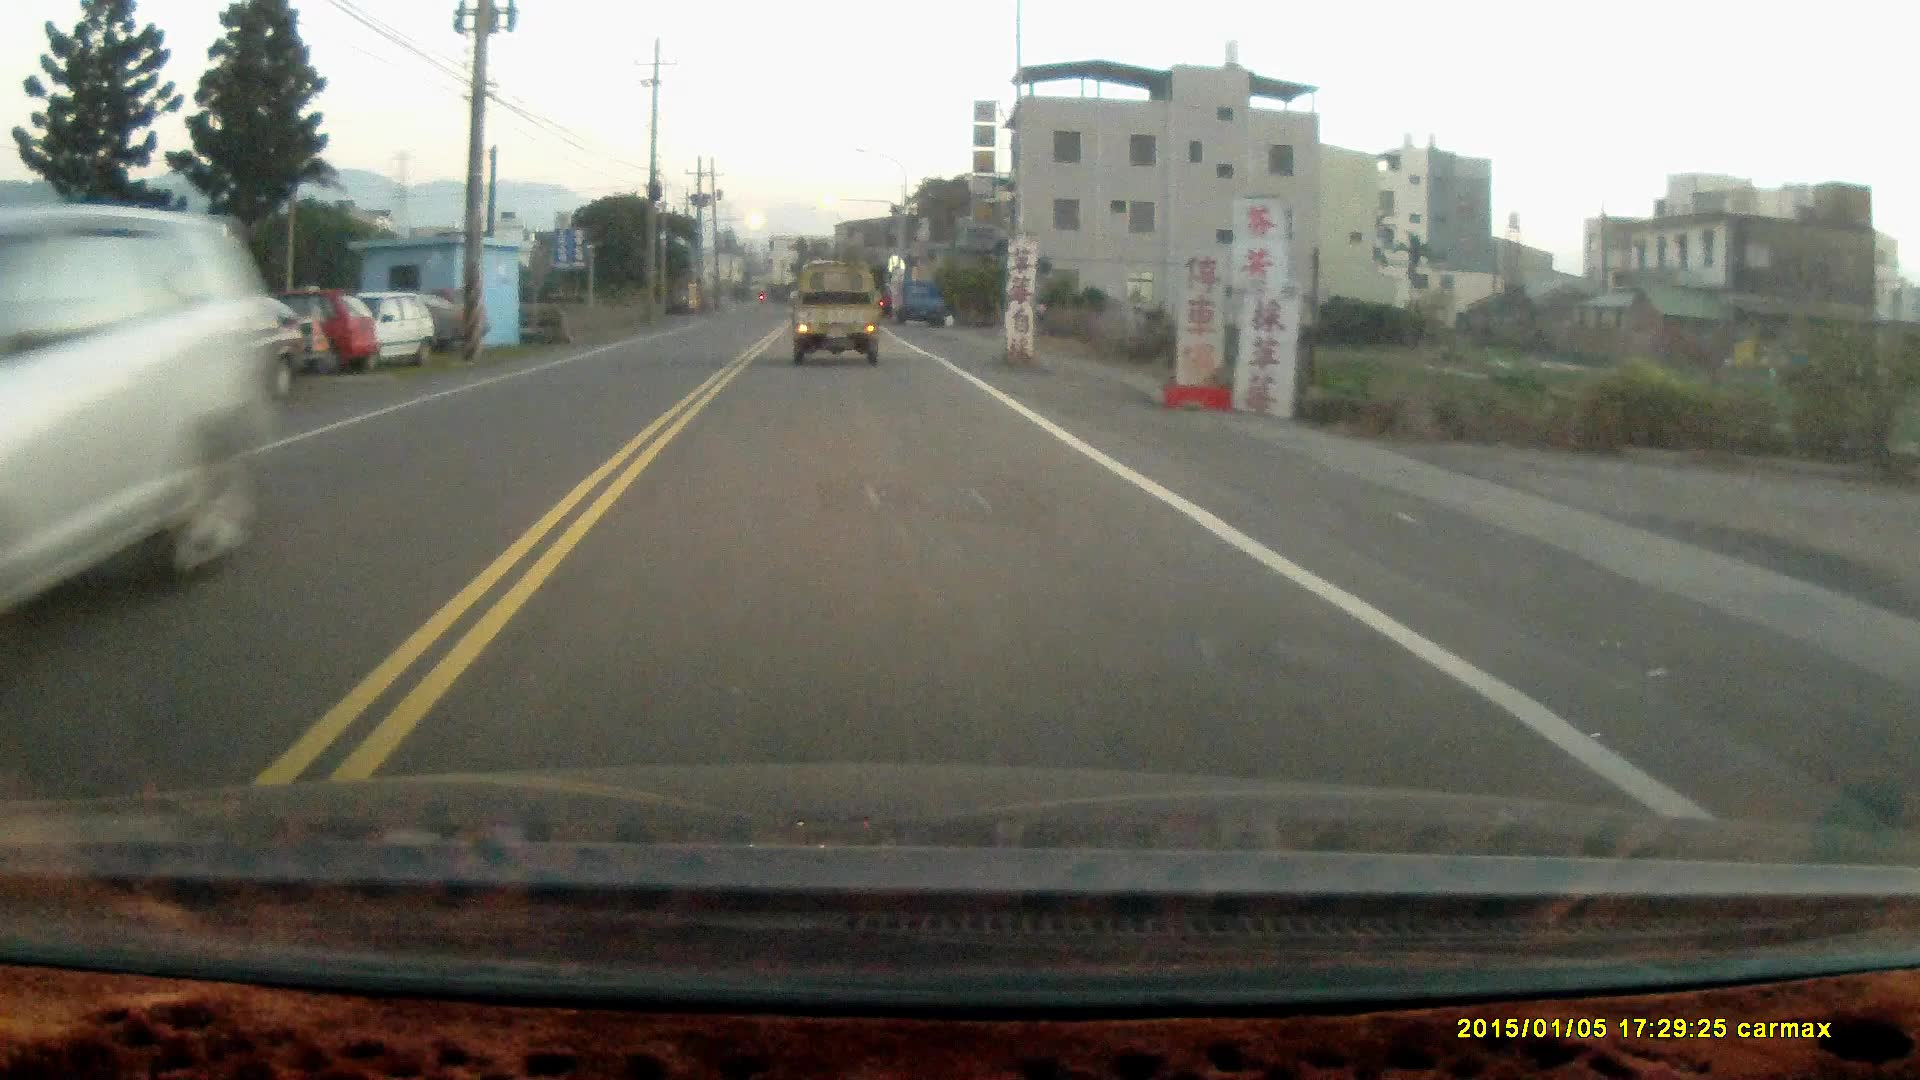vehicle: (1, 207, 237, 642), (791, 272, 884, 372), (340, 294, 436, 372), (898, 281, 952, 332)
